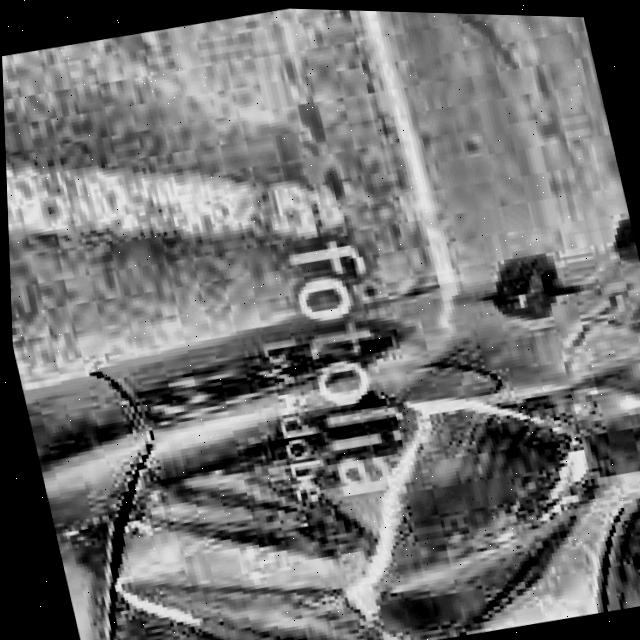bumper_dent: (96, 364, 602, 640)
